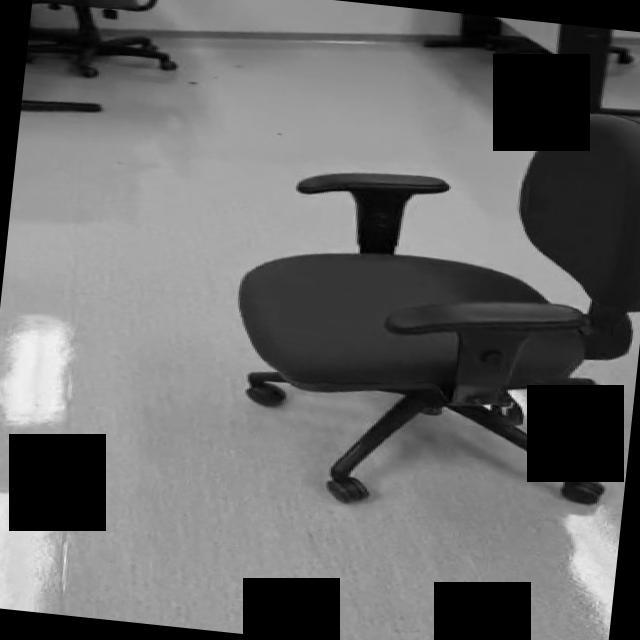chair: (216, 77, 640, 531)
